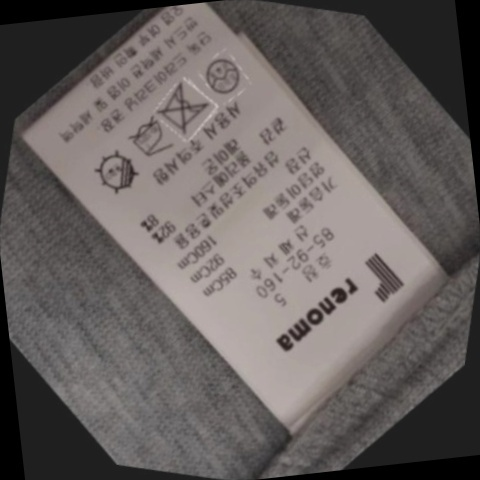DN_wash: (152, 77, 220, 140)
dry_clean_petrol_only: (197, 48, 252, 102)
iron_low: (119, 111, 180, 168)
line_dry_in_shade: (87, 144, 153, 203)
